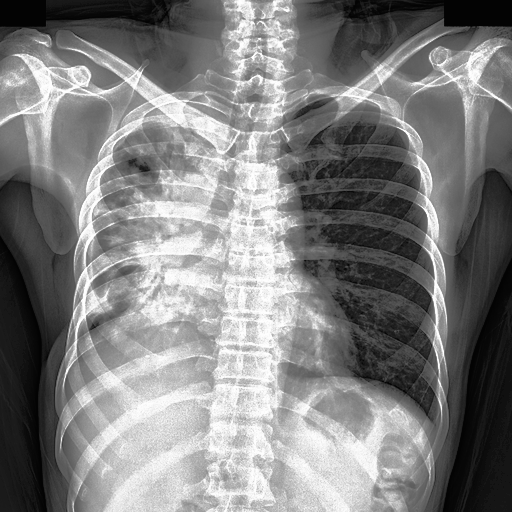Aortic enlargement: (81, 89, 232, 331), (84, 292, 113, 315)
Calcification: (135, 94, 233, 132)
Consolidation: (252, 163, 305, 232)
Pleural thickening: (85, 102, 242, 322), (112, 131, 209, 184)
Pneumothorax: (96, 231, 147, 299)
